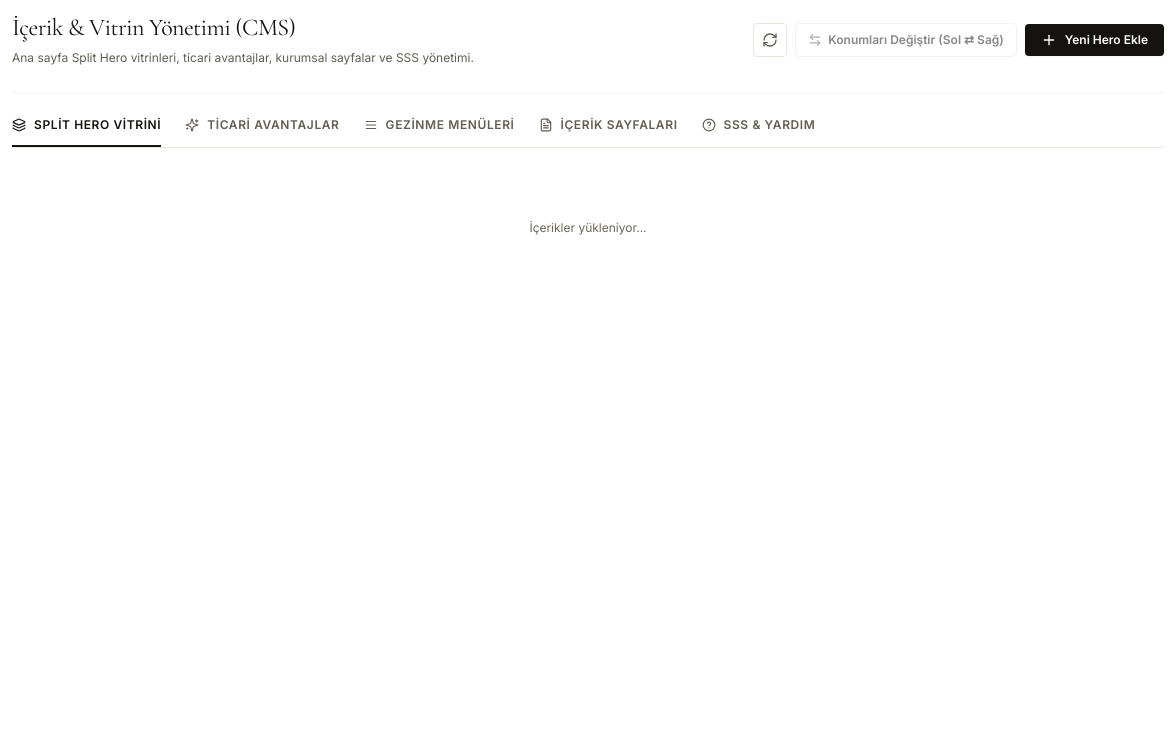
Test: AdminContentPage Component (Phase 2.8) › switches to wholesale benefits tab and displays benefits list
This screenshot has width=1176, height=732.
Expected: the text "Split Hero Vitrini" is shown, [34,116,161,132]
Click the button "Ticari Avantajlar": (262, 132) [185,116,340,146]
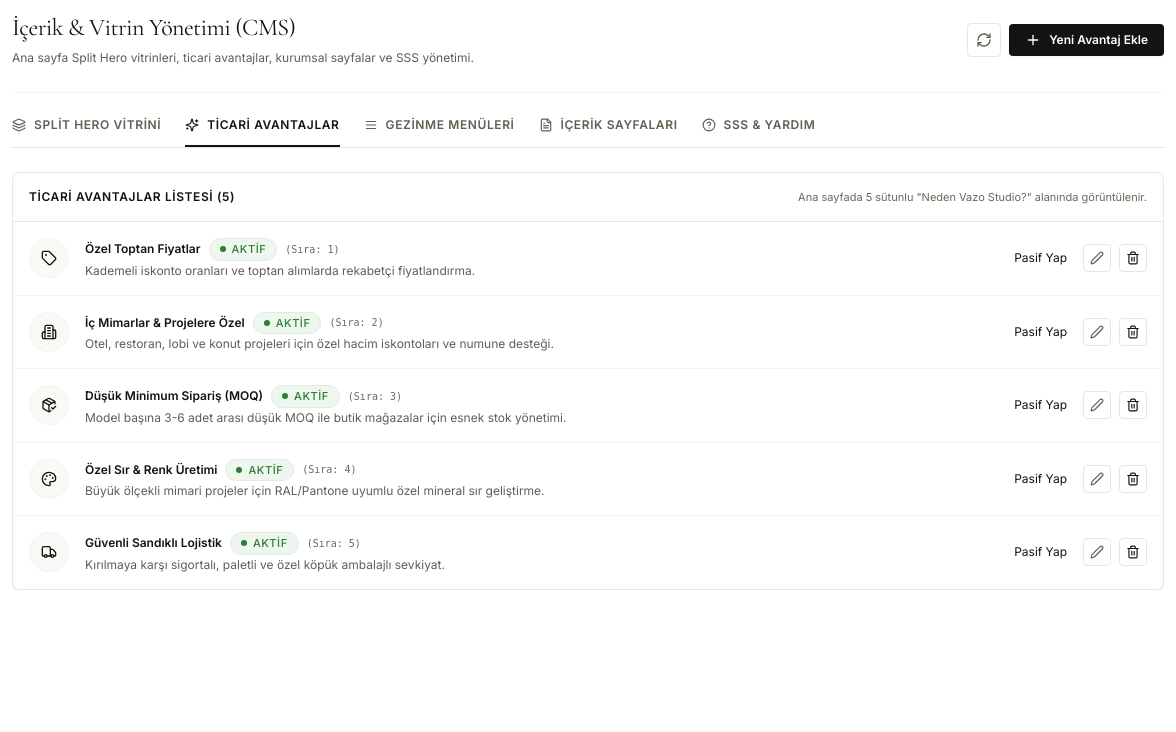
Now the text "Özel Toptan Fiyatlar" is shown, box [85,241,200,257]
Now the button "Yeni Avantaj Ekle" is shown, box [1009,24,1164,56]
